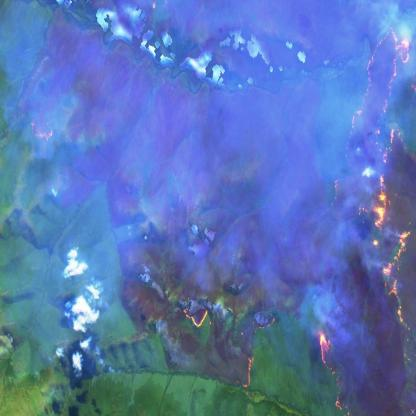fire: (315, 0, 416, 416), (182, 299, 215, 336), (236, 348, 260, 396)
